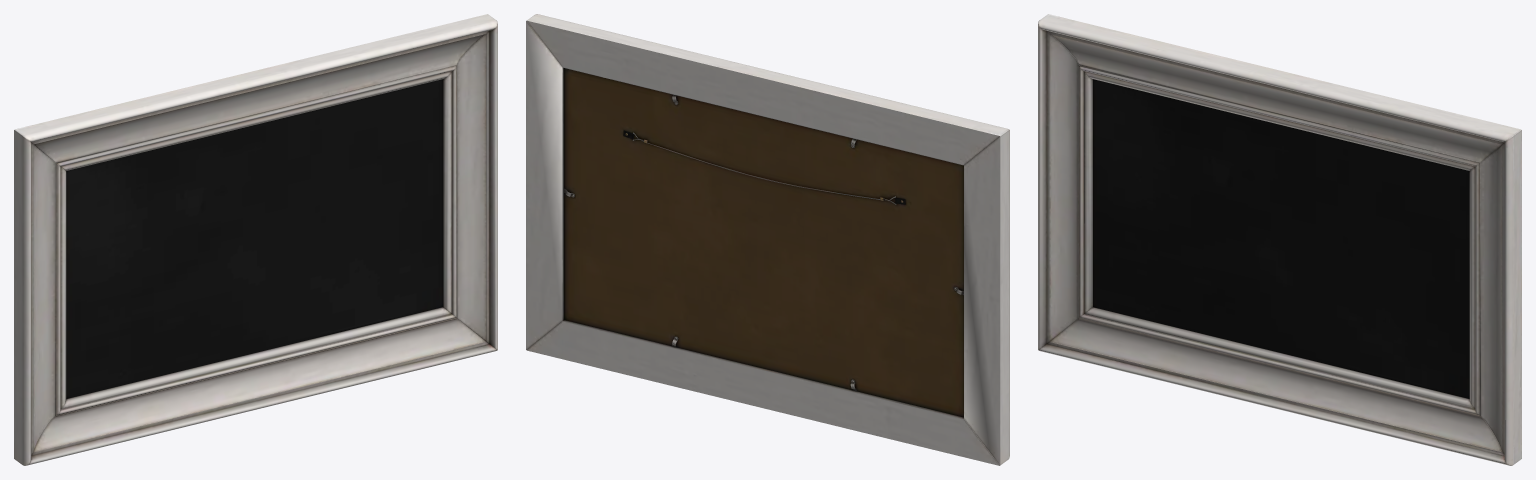
File: hanging_picture_frame_02.glb
The picture shows the model from 3 angles, left to right: view 1: azimuth 30°, elevation 25°; view 2: azimuth 150°, elevation 25°; view 3: azimuth 330°, elevation 25°; orthographic projection.
Parts seen in each view (by area): view 1: hanging_picture_frame_02; view 2: hanging_picture_frame_02; view 3: hanging_picture_frame_02.
Boxes of the visible parts, <box> form: hanging_picture_frame_02: <box>14,14,497,465</box>; hanging_picture_frame_02: <box>526,14,1009,465</box>; hanging_picture_frame_02: <box>1038,14,1521,465</box>.
Bounding box in the file's own units: 0.7518 × 0.5 × 0.033.
Materials: 3 (3 with a texture image).
